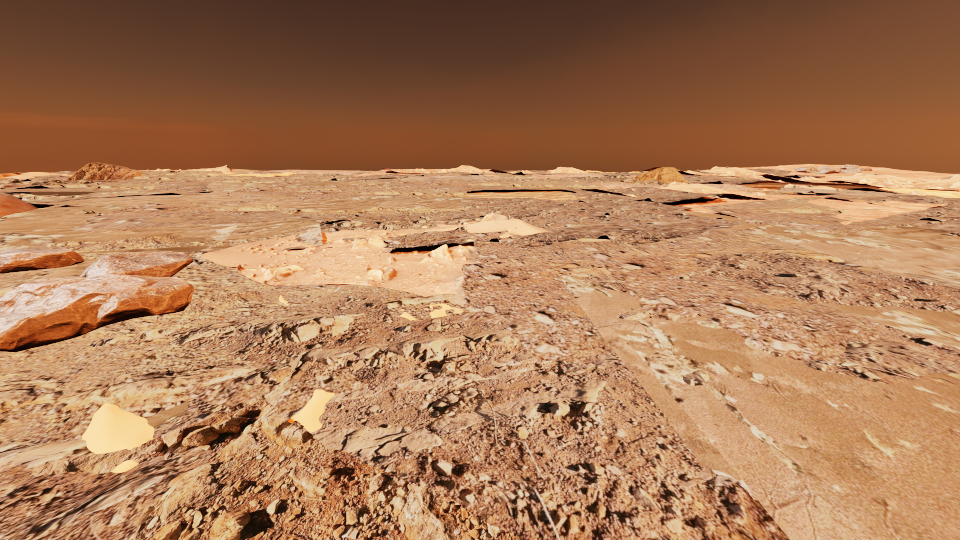bedrock: (0, 292, 789, 539), (206, 171, 743, 247), (671, 249, 959, 311), (743, 185, 959, 236), (803, 322, 959, 383), (0, 176, 213, 203), (172, 267, 269, 299), (547, 259, 630, 292), (276, 171, 540, 181), (0, 268, 81, 296), (383, 226, 473, 247), (681, 174, 768, 189), (744, 206, 847, 215), (352, 190, 479, 197), (133, 170, 220, 180), (460, 182, 601, 188), (616, 309, 687, 320), (747, 168, 824, 177), (683, 370, 708, 385), (78, 252, 122, 259), (291, 188, 348, 191), (208, 180, 261, 182), (283, 246, 307, 250), (529, 170, 551, 174), (80, 209, 94, 213), (854, 536, 866, 539)
hole: (748, 185, 781, 188)
rocks: (0, 251, 194, 351), (0, 249, 84, 273), (66, 162, 142, 181), (635, 167, 686, 182), (794, 164, 871, 173)
sand: (561, 276, 959, 539), (0, 180, 462, 252), (662, 189, 959, 288), (819, 303, 959, 348), (82, 401, 188, 453), (265, 350, 304, 406), (287, 390, 334, 432), (742, 164, 858, 180), (466, 189, 586, 201), (860, 167, 958, 181), (44, 259, 97, 276), (875, 187, 959, 197), (198, 169, 318, 176), (430, 304, 463, 317), (351, 169, 406, 175), (112, 460, 138, 472), (789, 182, 859, 185), (400, 312, 416, 320), (330, 285, 340, 296), (279, 295, 287, 304)
soil: (0, 226, 875, 373), (222, 171, 630, 201), (69, 203, 445, 232), (701, 196, 930, 235), (181, 359, 288, 408), (0, 183, 114, 216), (275, 374, 367, 412), (0, 236, 212, 252), (86, 175, 352, 186), (736, 181, 959, 191), (0, 403, 52, 425), (17, 434, 81, 445), (539, 221, 597, 230), (186, 346, 234, 356), (730, 172, 777, 181), (34, 171, 76, 180), (403, 170, 466, 176), (693, 173, 745, 180), (254, 170, 374, 173), (821, 194, 862, 201), (203, 200, 266, 204), (387, 195, 426, 200), (461, 198, 506, 202), (805, 179, 848, 183), (174, 170, 223, 173), (431, 224, 462, 228), (489, 213, 504, 220), (139, 170, 172, 173), (231, 231, 254, 233), (699, 183, 722, 185), (1, 173, 12, 177)
